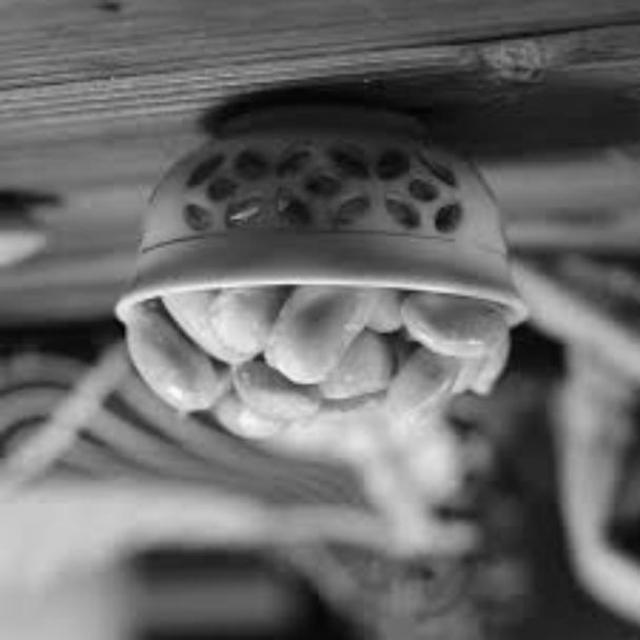dau van: (114, 241, 526, 479), (500, 252, 640, 411), (0, 198, 42, 288)
